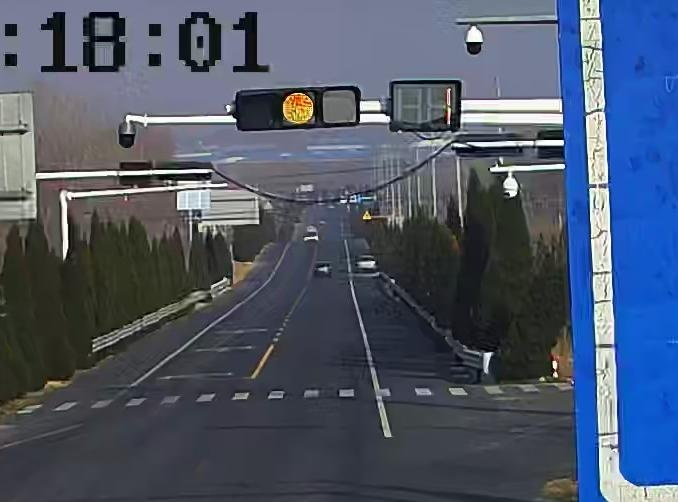yellow: (278, 90, 317, 126)
yellowtime: (440, 85, 455, 128)
